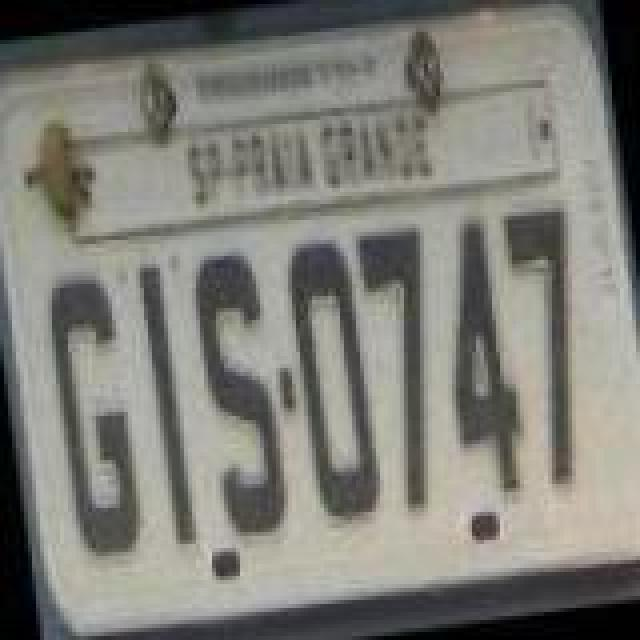1: (140, 262, 200, 542)
4: (428, 216, 532, 500)
7: (352, 220, 456, 512), (502, 206, 602, 490)
G: (44, 266, 152, 566)
O: (282, 234, 386, 526)
S: (190, 246, 294, 542)
